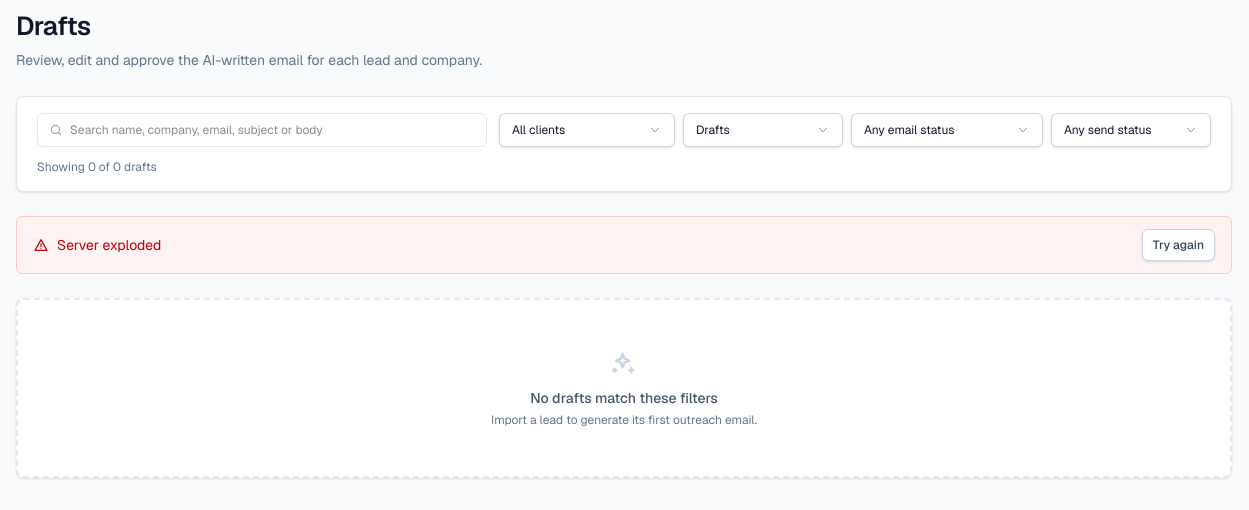
Test: DraftsPage › offers a retry when loading fails
This screenshot has width=1249, height=510.
Expected: the message shows "Server exploded", [57, 236, 161, 254]
Step 1. Click the button "Try again" → (1178, 245), box [1142, 229, 1215, 261]
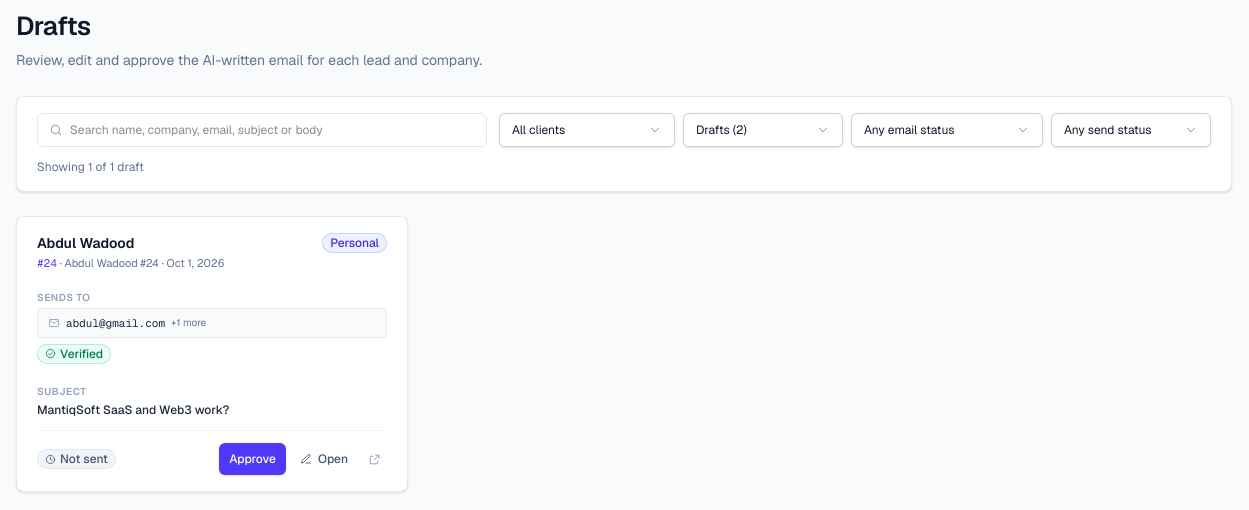
Expected: the text "Showing 1 of 1 draft" is shown, [37, 159, 144, 175]
